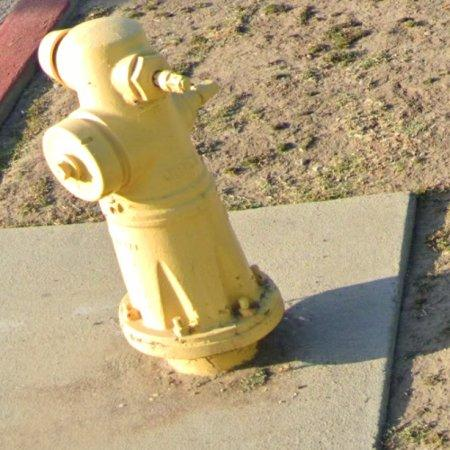a fire hydrant: (40, 16, 284, 377)
